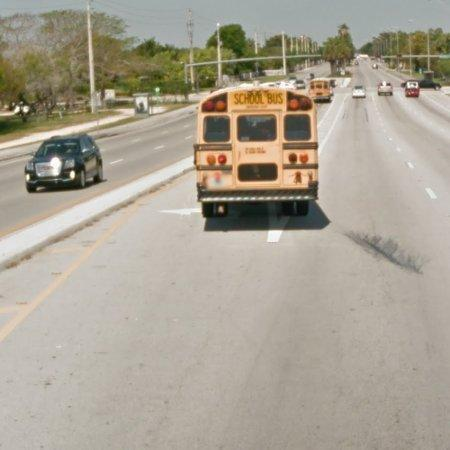buses: (194, 88, 319, 218)
